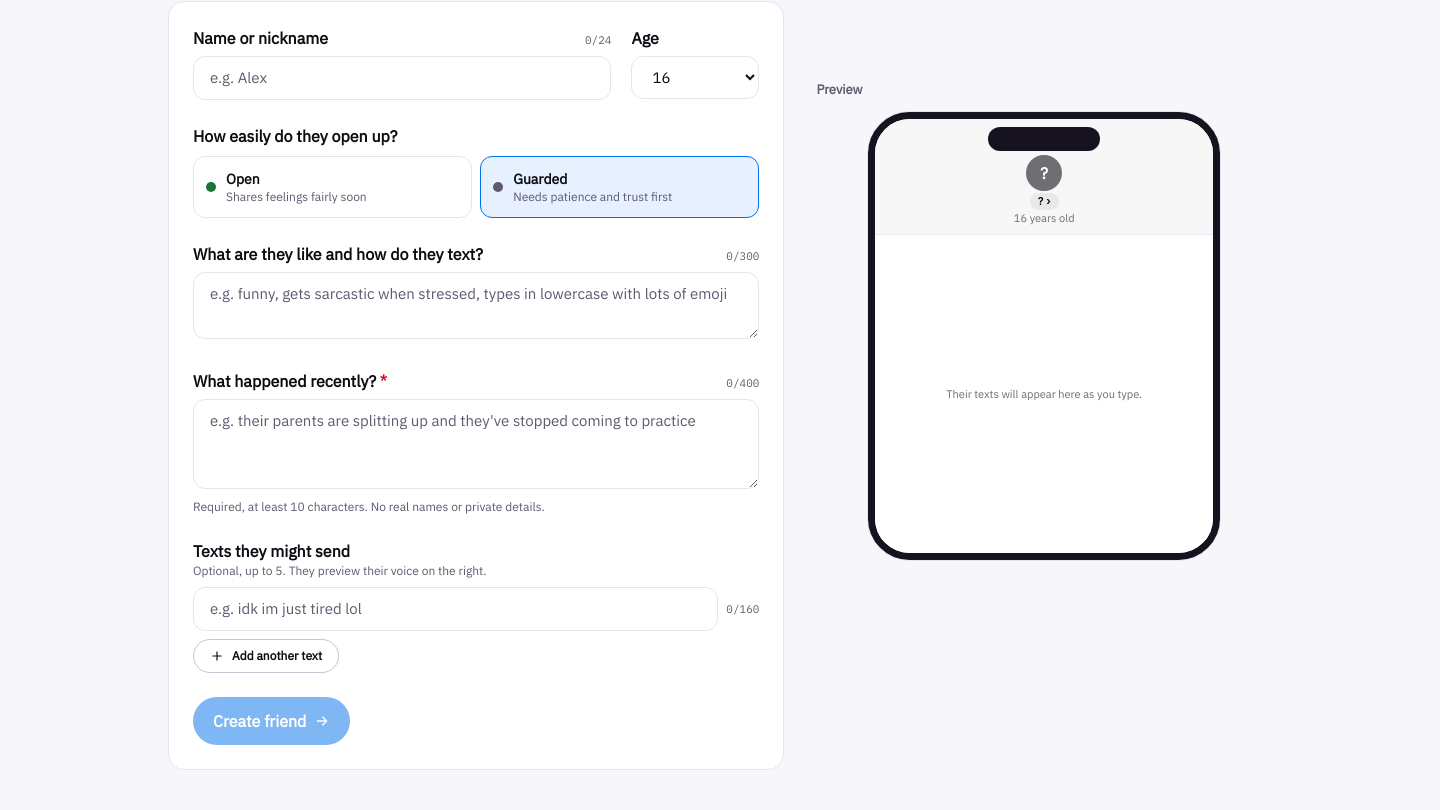
Test: Add your own friend › previews sample texts as received bubbles while typing
(page scrolled)
Type "idk im just tired lol" into the field with test id "friend-text" at (456, 609), box [193, 587, 718, 631]
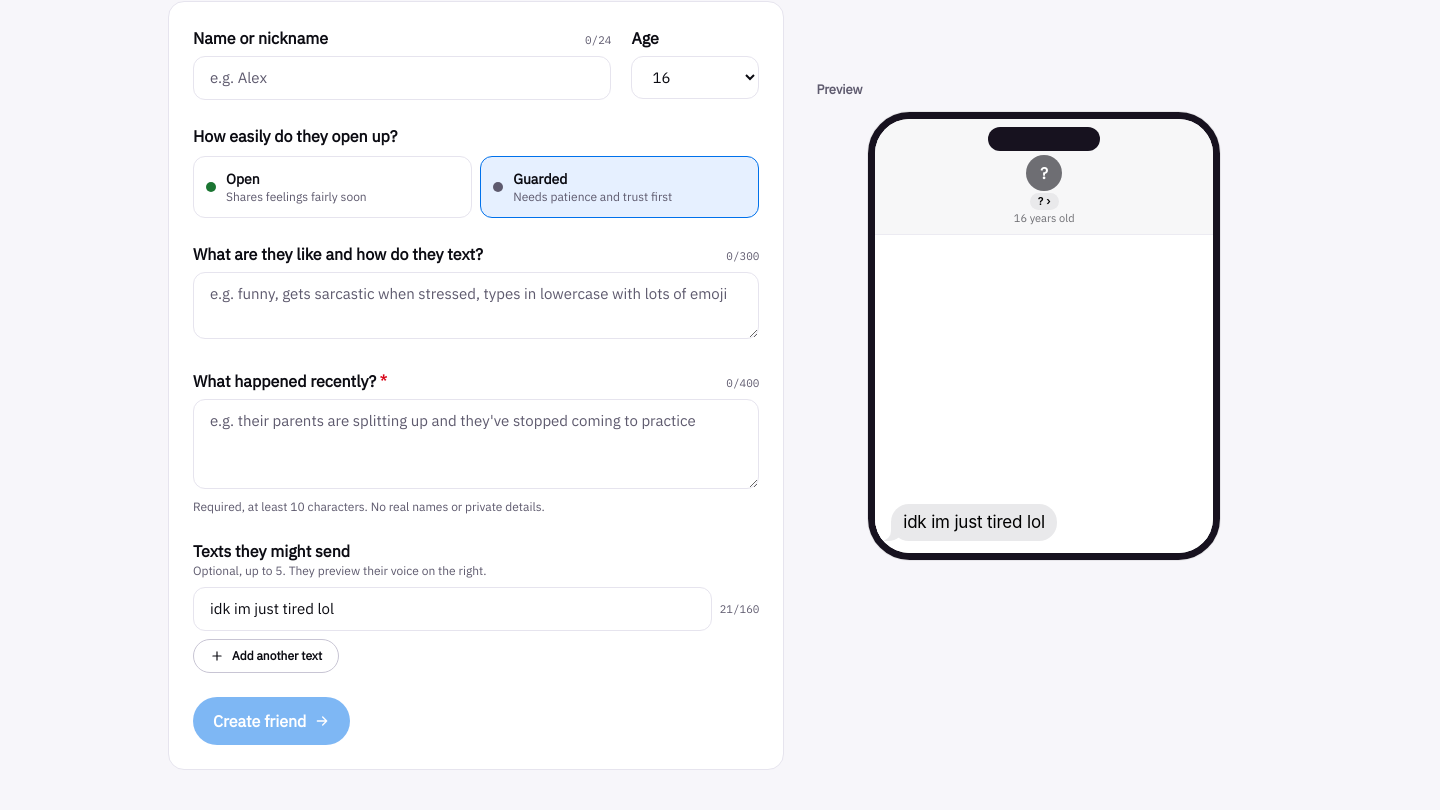
Expected: the element with test id "friend-preview" reads "idk im just tired lol", [903, 512, 1045, 532]
